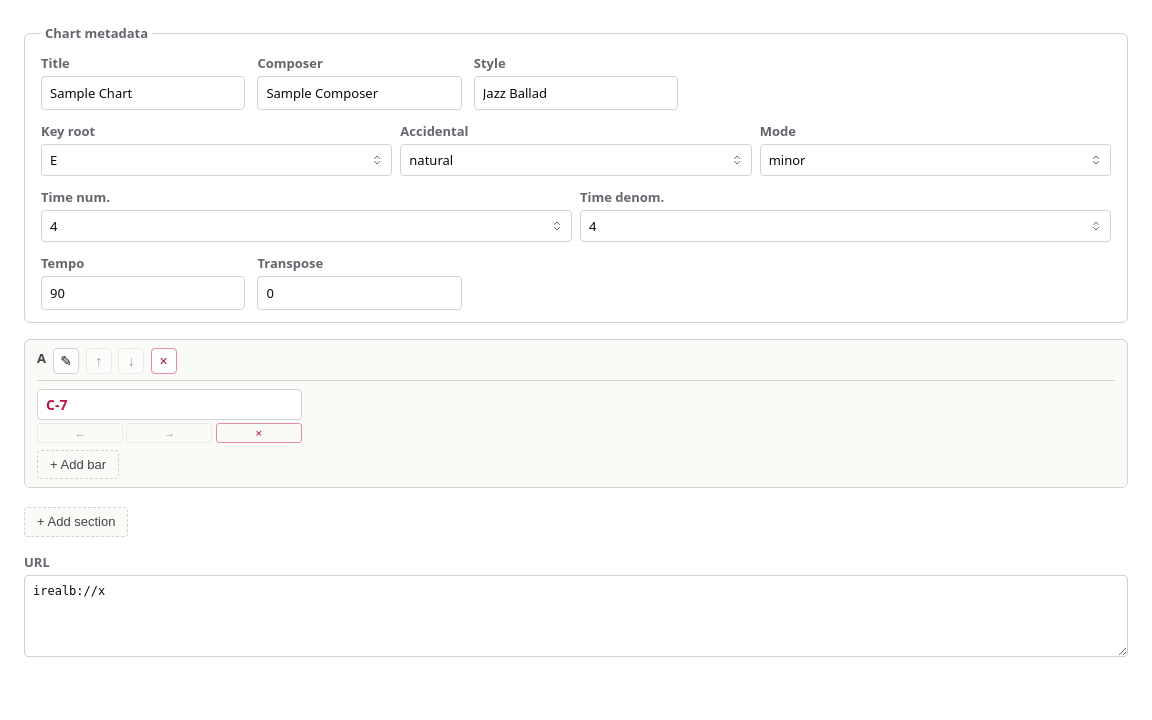
<IrealBarGrid> › serialize failure does NOT advance song state past the parent
Replace the text in the field labelled "Title" with "Will Be Reverted" at (143, 93), box [41,76,245,110]
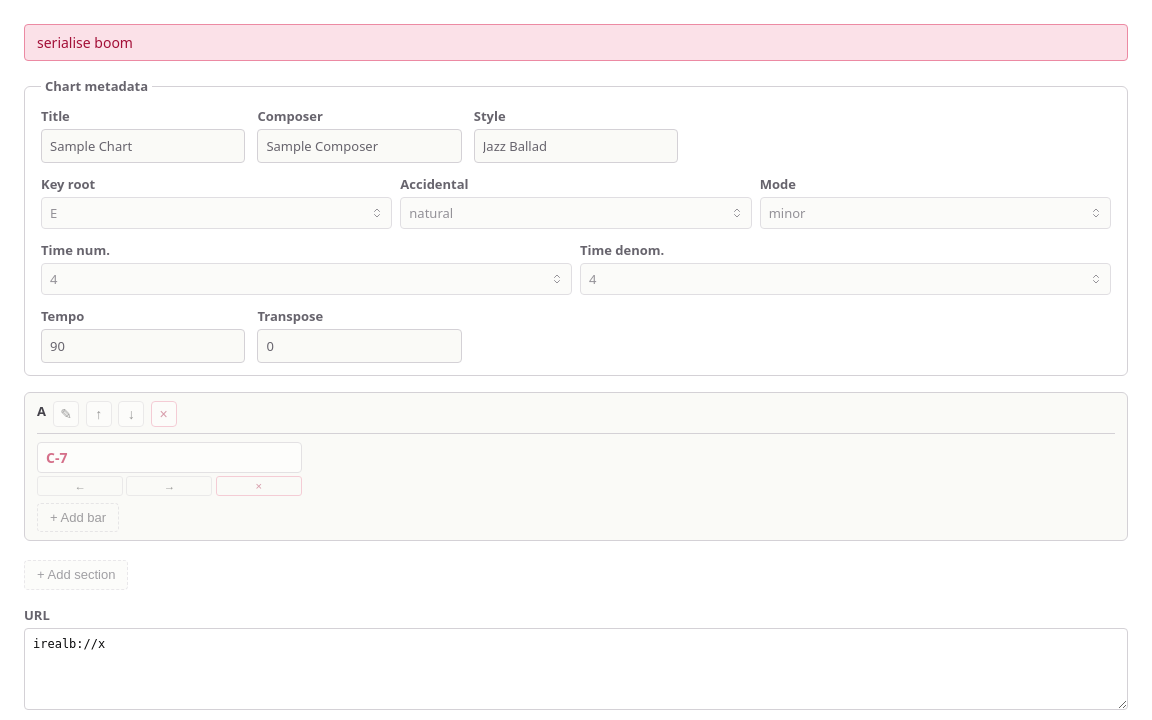
Check: the field labelled "Title" holds "Sample Chart", box [41,129,245,163]
Check: the message reads "serialise boom", box [37,33,133,52]
